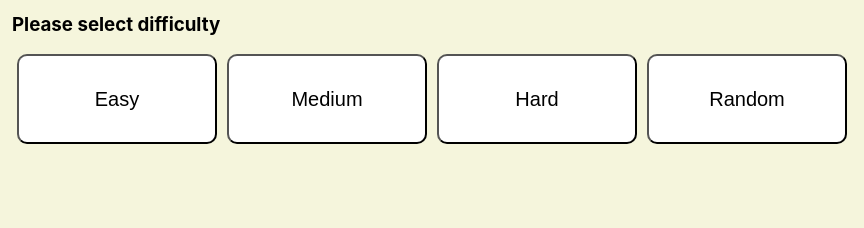
Test: testing selectDifficulty › correctly selects difficulty
Click the button with test id "Easy" at (117, 99), box [17,54,217,144]
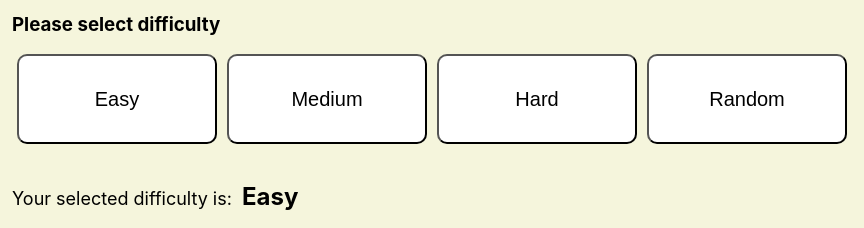
Check: the element with test id "difficulty" reads "Easy", box [242,182,298,211]
